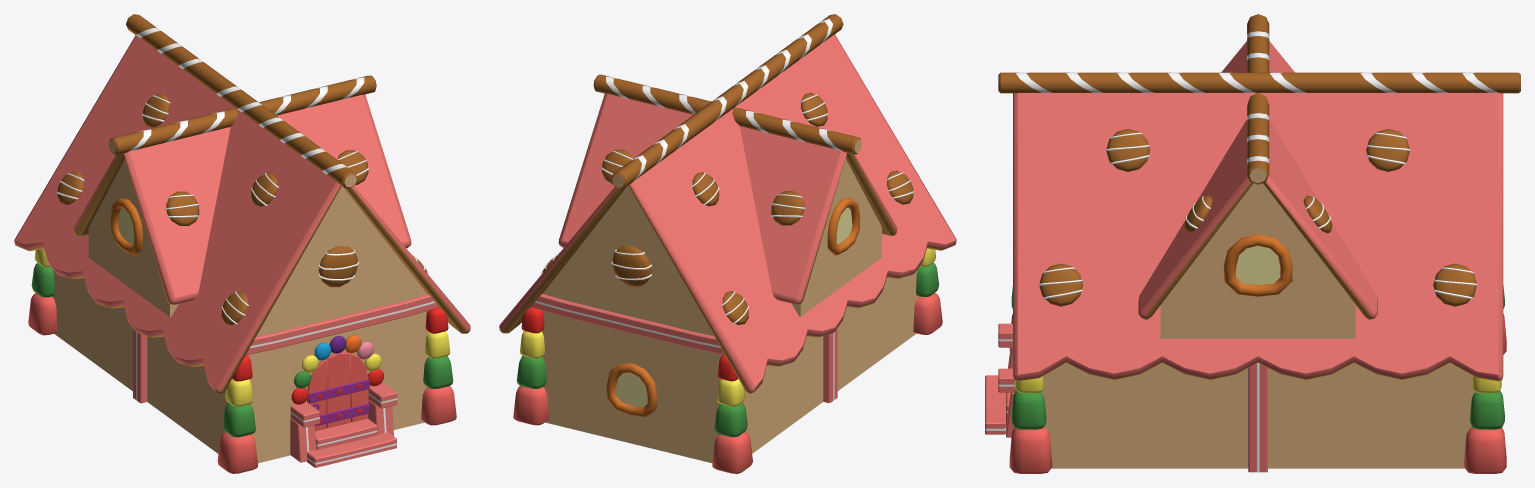
File: House_8.fbx
The picture shows the model from 3 angles, left to right: view 1: azimuth 30°, elevation 25°; view 2: azimuth 150°, elevation 25°; view 3: azimuth 270°, elevation 25°; orthographic projection. The views are drawn at different scales.
Visible parts, largest first — view 1: House_8; view 2: House_8; view 3: House_8.
Boxes of the visible parts, <box> form: House_8: <box>14,14,470,473</box>; House_8: <box>499,14,956,473</box>; House_8: <box>985,14,1520,473</box>.
Bounding box in the file's own units: 7.16 × 7.38 × 10.62.
